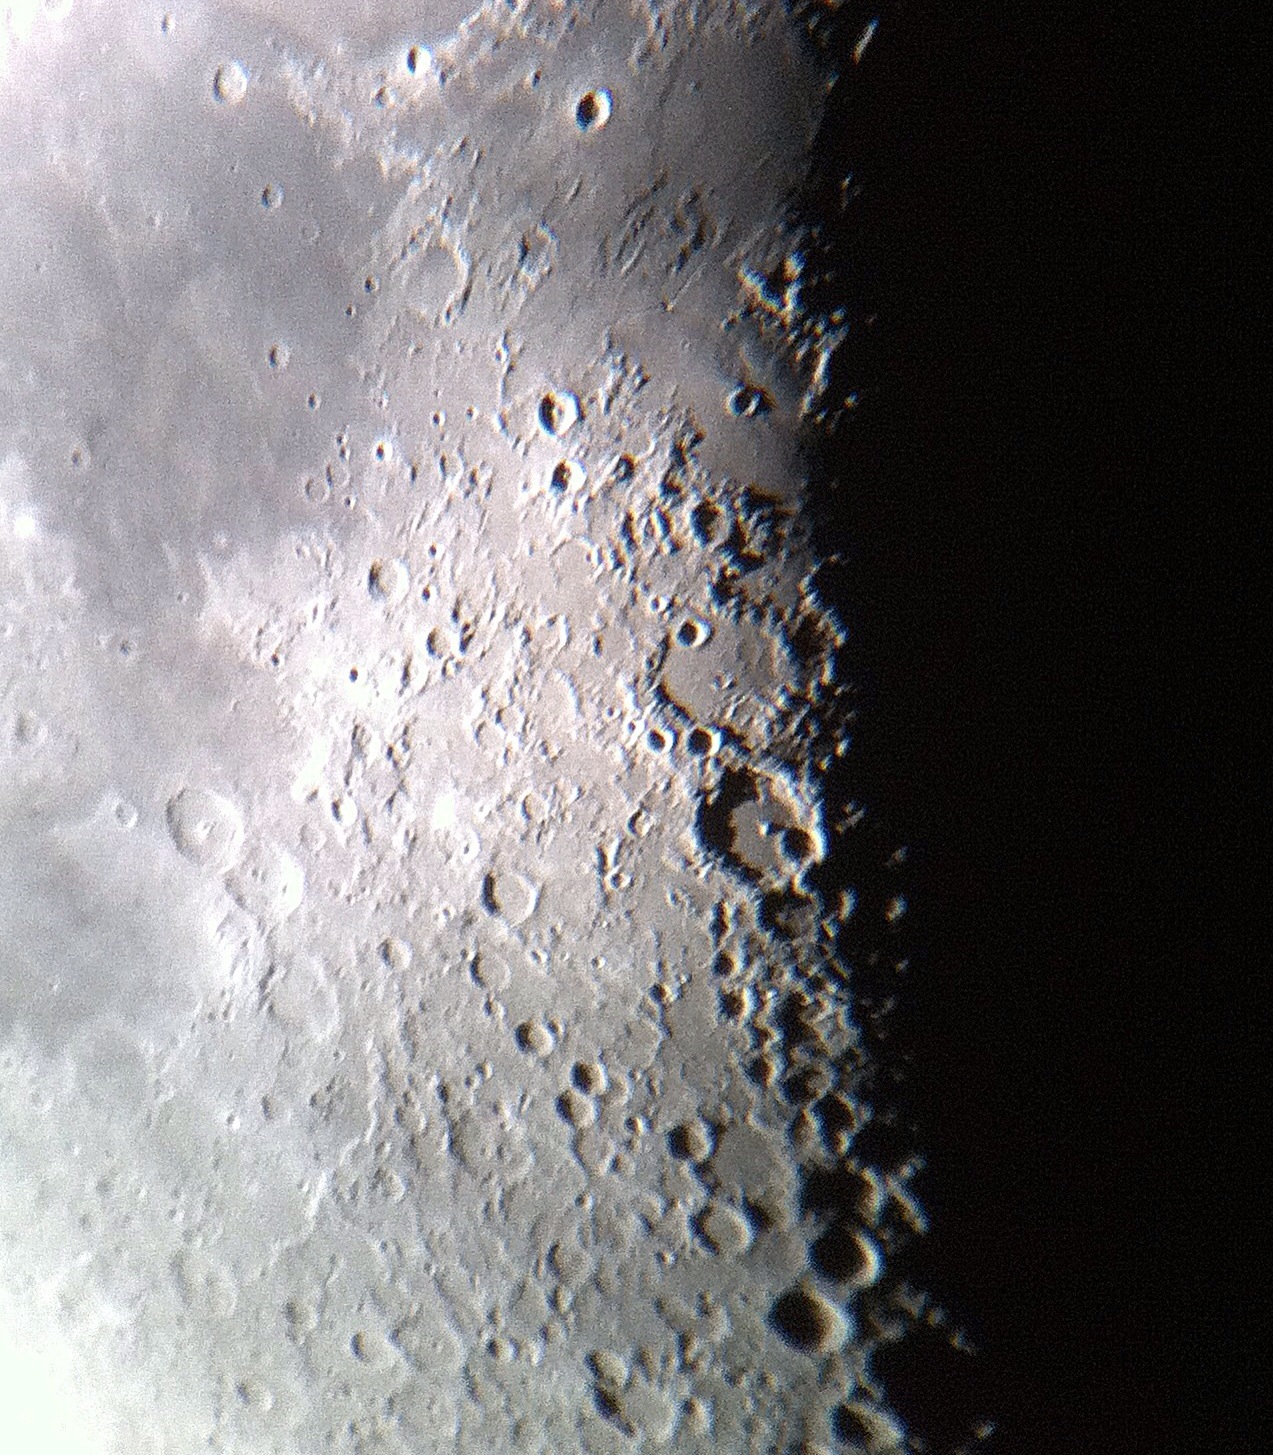crater: (675, 751, 849, 898), (148, 756, 252, 881), (4, 677, 83, 800), (42, 407, 127, 510), (233, 314, 332, 398), (354, 536, 417, 622), (191, 53, 266, 124), (552, 80, 626, 147), (148, 554, 200, 621), (246, 157, 286, 225)
